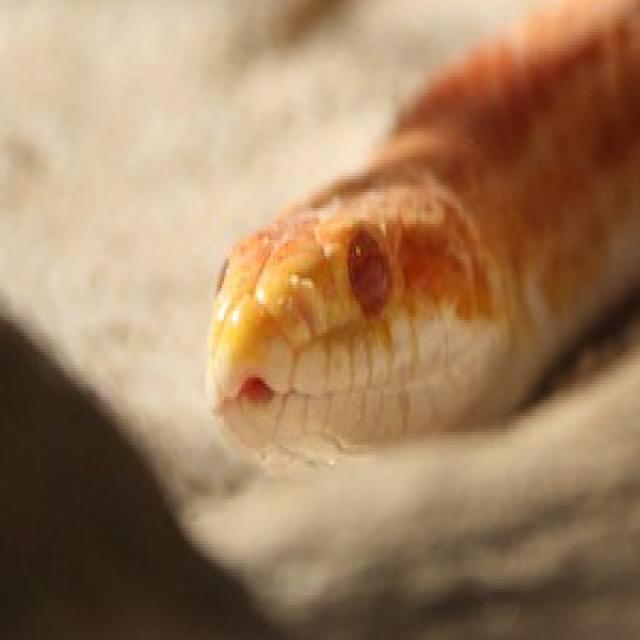Snake: (202, 0, 640, 473)
